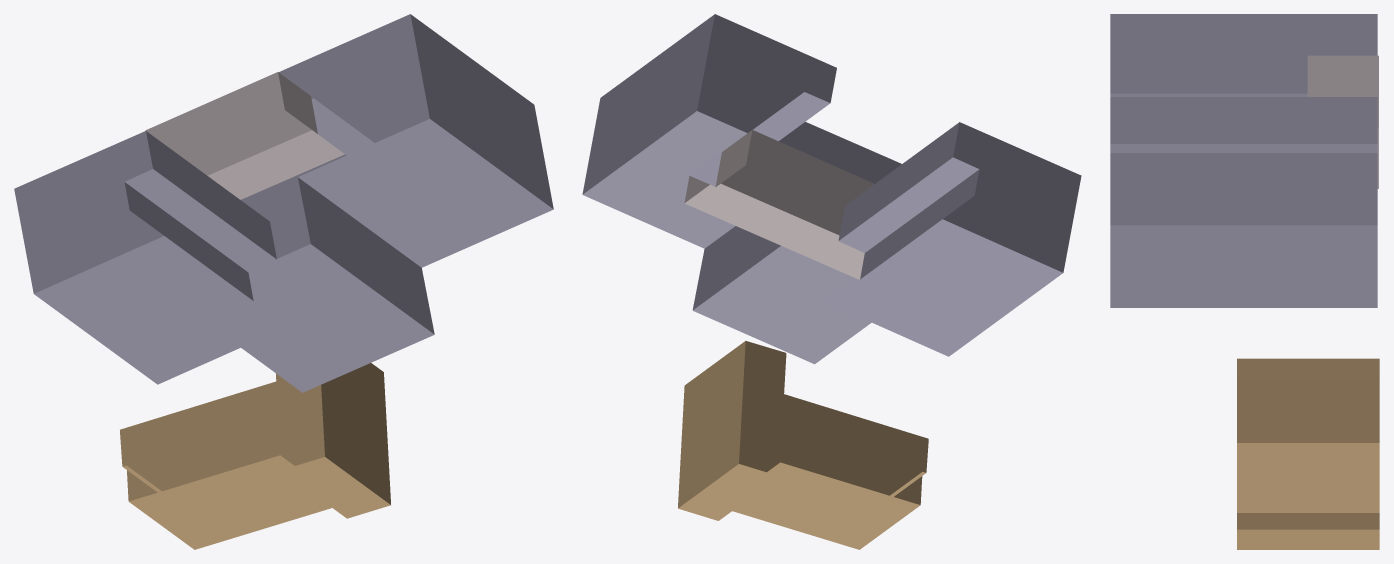
3 views of the same model, side by side, from view 1: azimuth 30°, elevation 25°; view 2: azimuth 150°, elevation 25°; view 3: azimuth 270°, elevation 25° (orthographic). The views are drawn at different scales.
Parts seen in each view (by area): view 1: 0_0_3_2_0_1_2_2; view 2: 0_0_3_2_0_1_2_2; view 3: 0_0_3_2_0_1_2_2.
Part boxes in pixels (x1,y1,x2,y2): 0_0_3_2_0_1_2_2: (14,14,553,549); 0_0_3_2_0_1_2_2: (582,14,1081,549); 0_0_3_2_0_1_2_2: (1110,14,1379,549).
Bounding box in the file's own units: 87.13 × 85.24 × 45.3.
